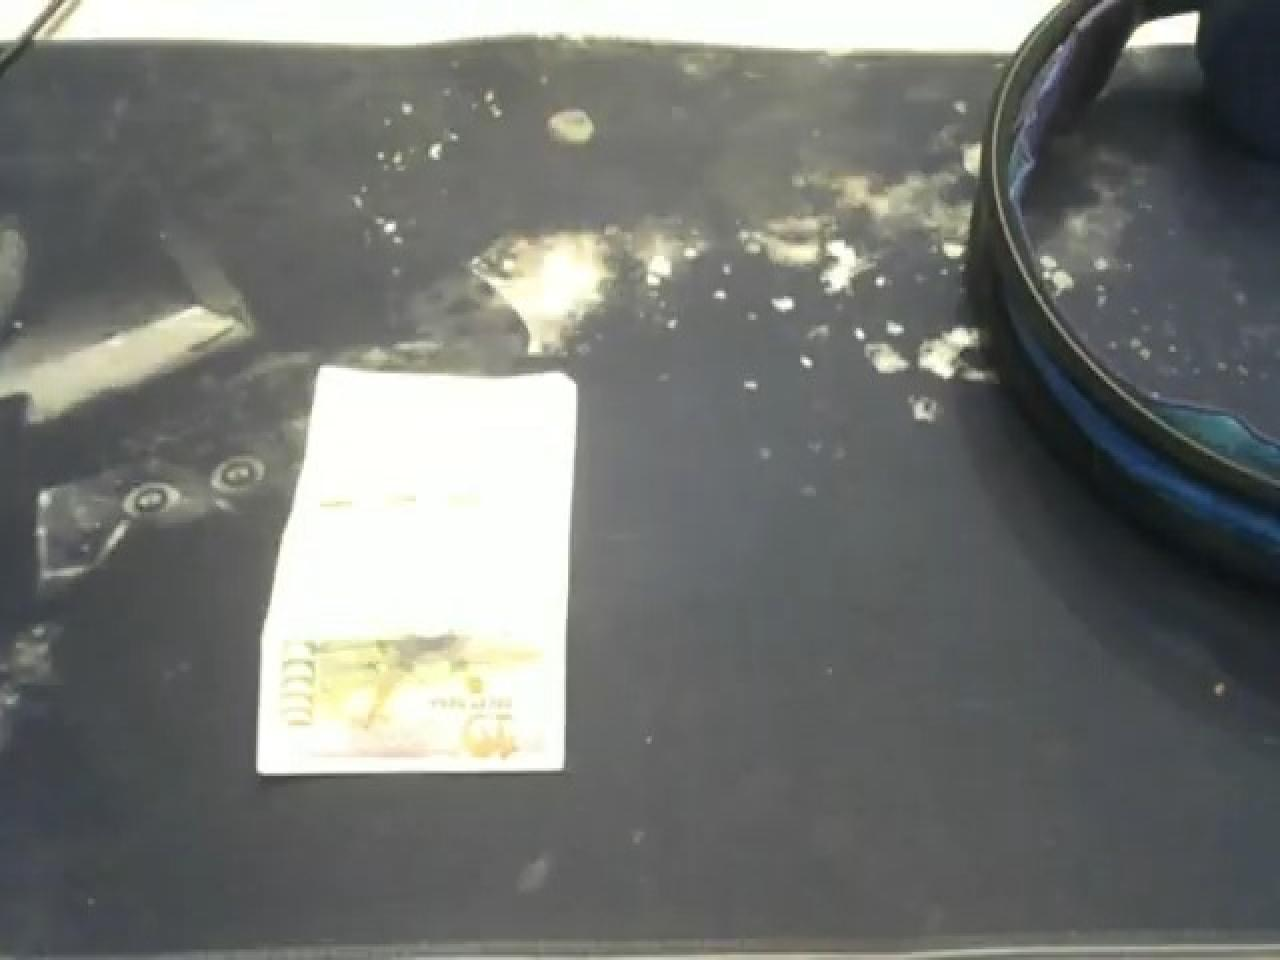10leva: (250, 365, 580, 787), (250, 365, 580, 782)
